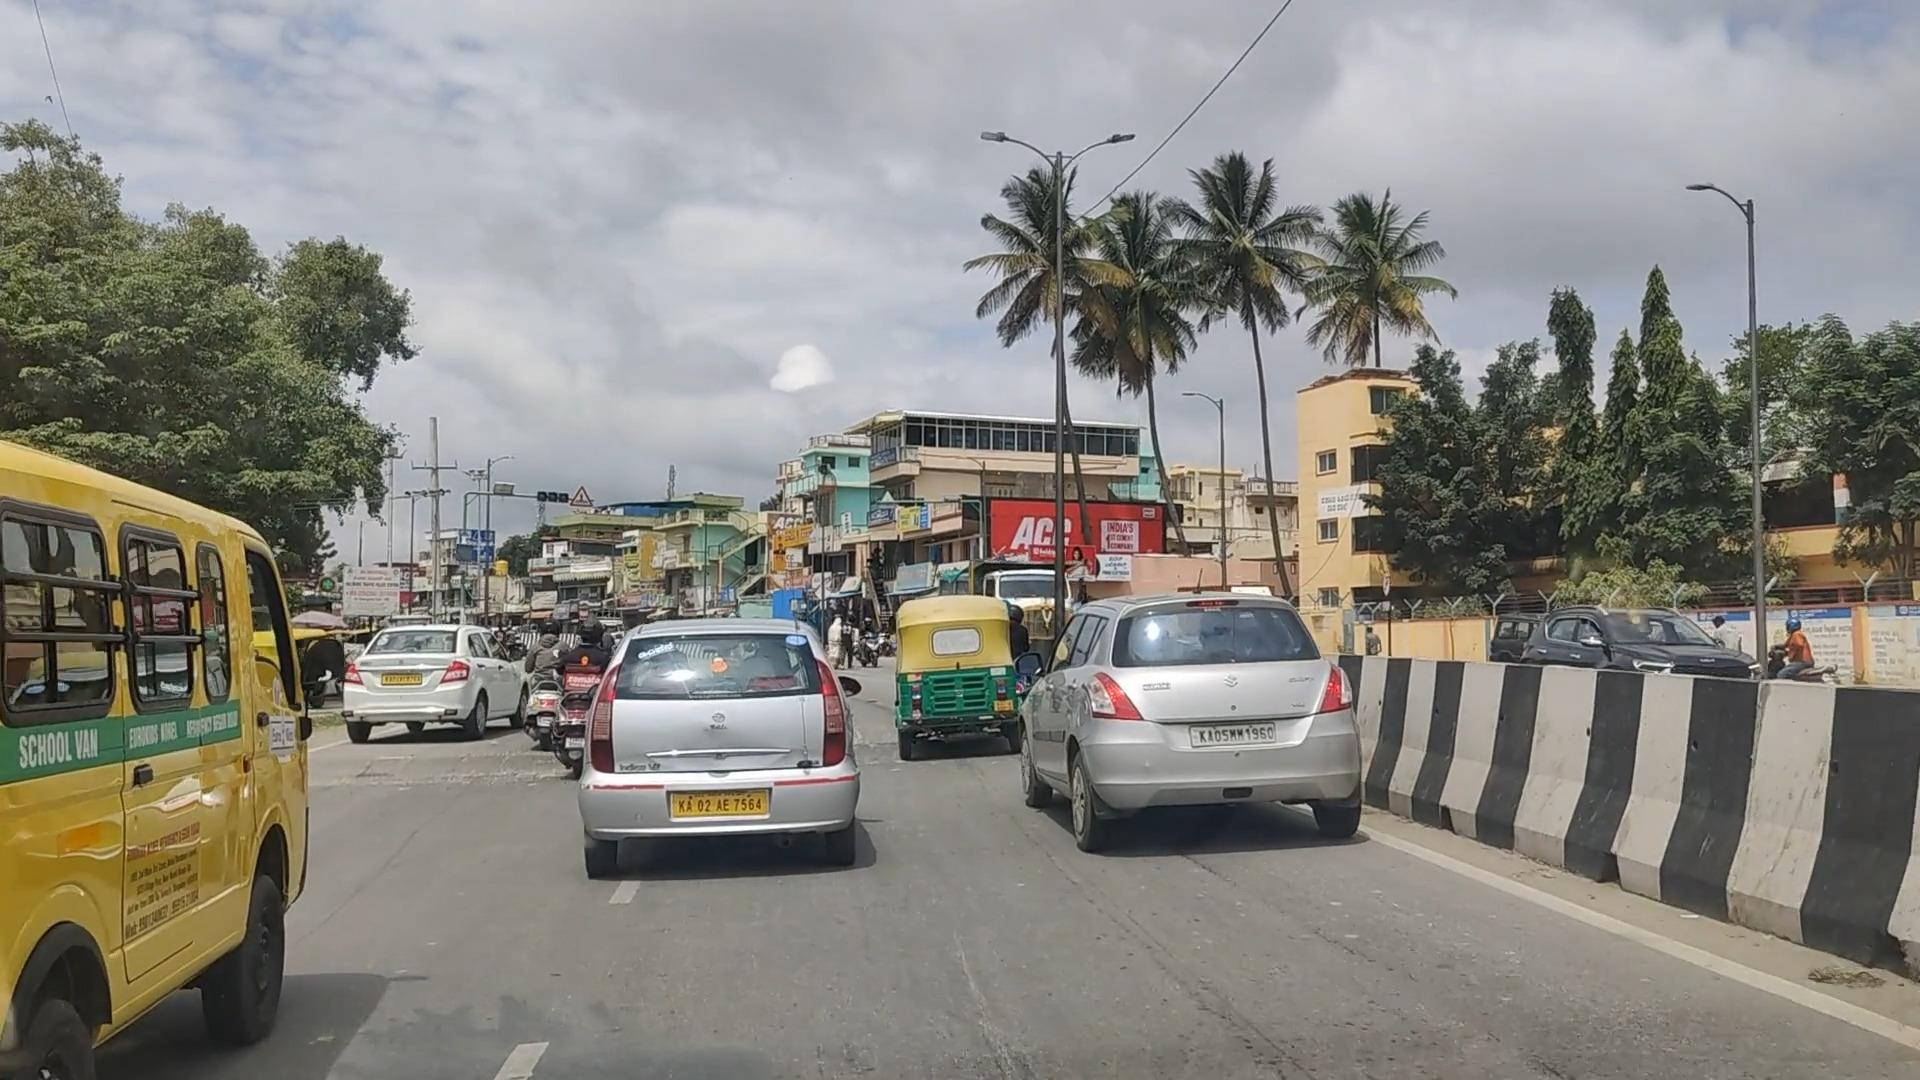LMV: (0, 438, 413, 1080), (1027, 589, 1391, 897), (583, 609, 870, 889), (327, 584, 534, 744), (881, 583, 1031, 762)
